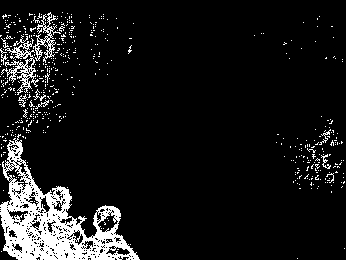person: (69, 205, 141, 260), (37, 186, 89, 260), (1, 176, 45, 260), (1, 141, 37, 185)
